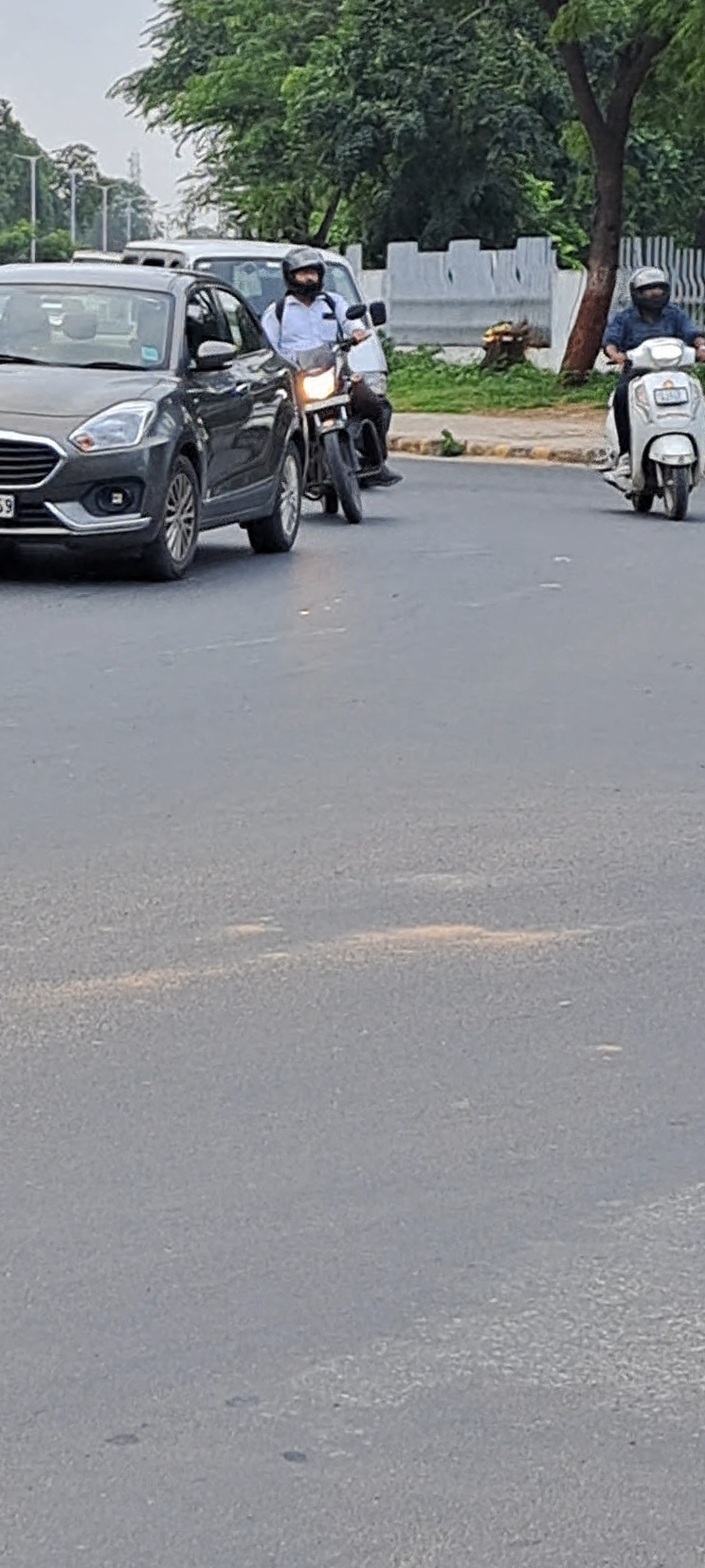BikeWithRider: (249, 240, 408, 532), (583, 256, 705, 526)
Helmet: (274, 244, 334, 306), (621, 260, 679, 320)
